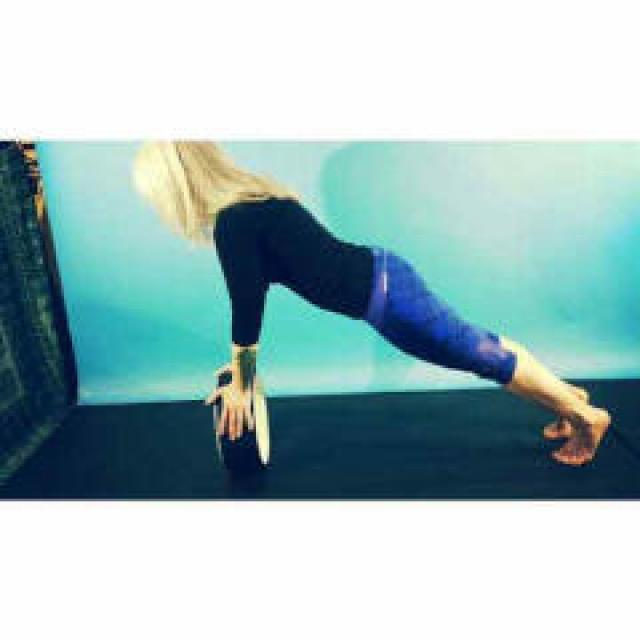yoga-pose plank: (112, 138, 613, 440)
